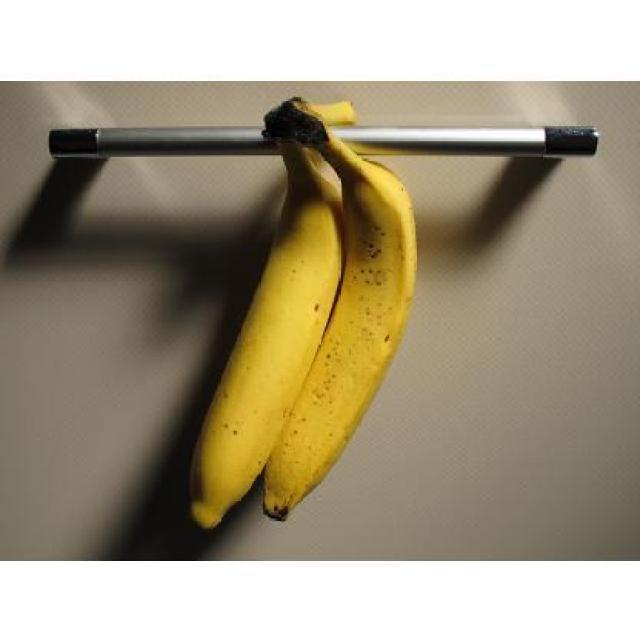Banana: (258, 89, 420, 523), (190, 114, 352, 523)
